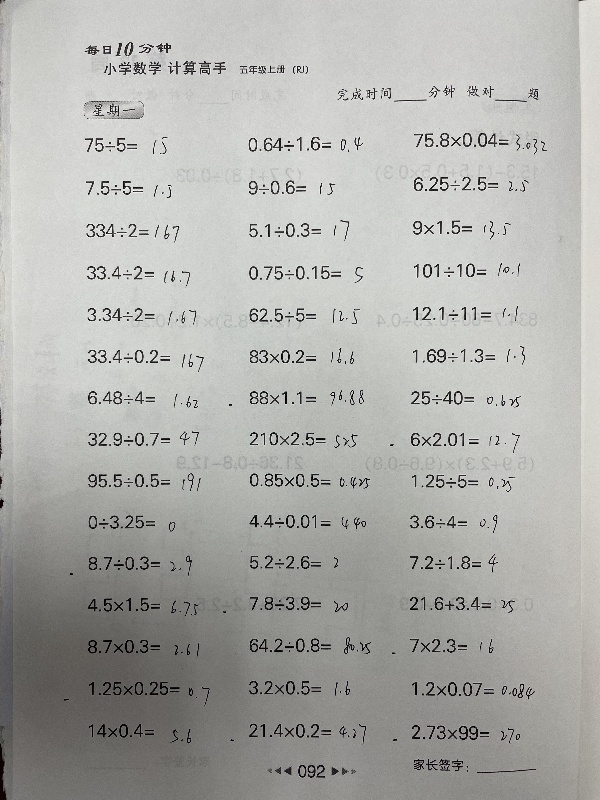equation: (409, 124, 553, 162), (242, 125, 366, 164), (80, 344, 211, 380), (86, 678, 215, 713), (246, 631, 376, 665), (407, 675, 537, 709), (86, 550, 207, 586), (407, 383, 530, 418), (404, 587, 522, 623), (242, 507, 375, 538), (408, 341, 536, 373), (243, 716, 372, 747), (406, 427, 525, 460), (410, 171, 532, 203), (83, 261, 196, 295), (245, 260, 369, 290), (409, 297, 524, 329), (80, 125, 174, 164), (408, 719, 527, 749), (245, 214, 353, 247), (245, 467, 377, 494), (409, 469, 520, 501), (80, 386, 205, 414), (83, 467, 208, 495), (409, 211, 515, 244), (81, 304, 200, 333), (412, 255, 533, 283), (79, 637, 204, 664), (247, 386, 371, 413), (245, 675, 360, 704), (80, 174, 178, 208), (244, 302, 362, 330), (401, 506, 507, 537), (245, 344, 366, 371), (79, 217, 186, 247), (81, 721, 199, 748), (246, 592, 359, 619), (407, 633, 501, 665), (81, 427, 204, 451), (246, 428, 361, 453), (83, 511, 182, 540), (245, 550, 351, 576), (242, 176, 340, 203), (85, 597, 204, 619), (406, 552, 502, 574)
